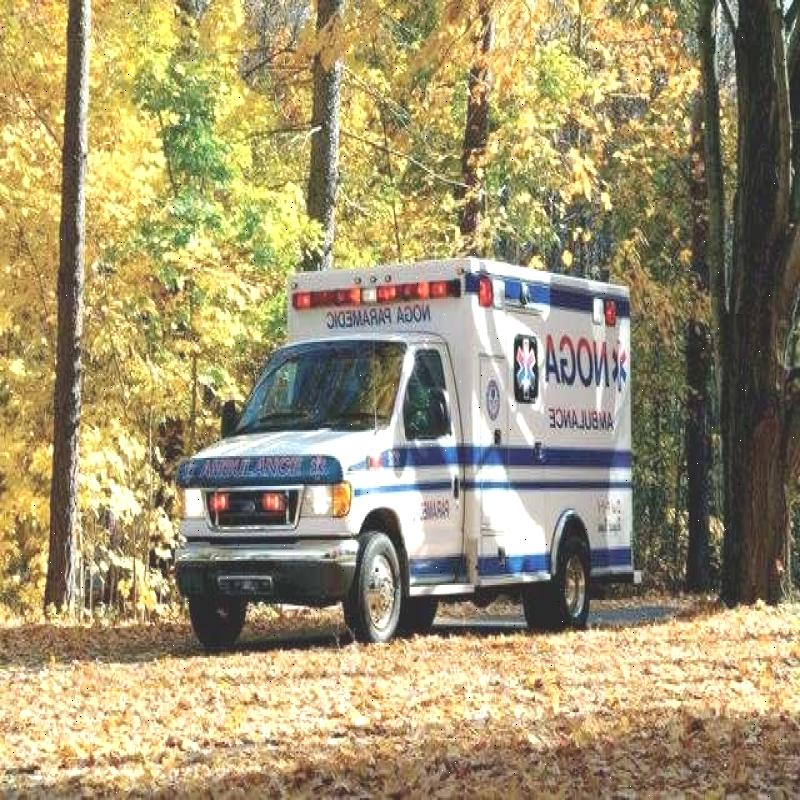AmbulanceSiren: (282, 251, 456, 336)
